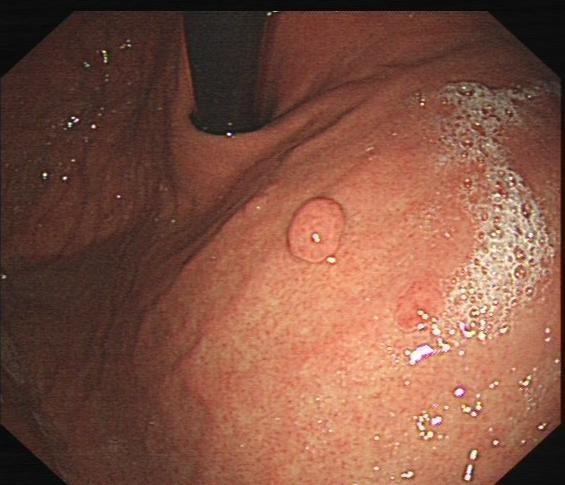Polyp: (274, 200, 347, 266), (393, 283, 447, 341)
